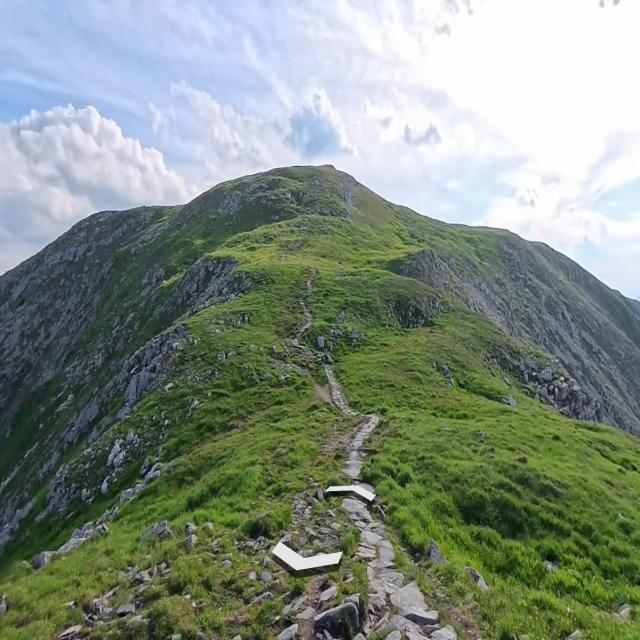Krzesanica: (113, 13, 538, 317)
